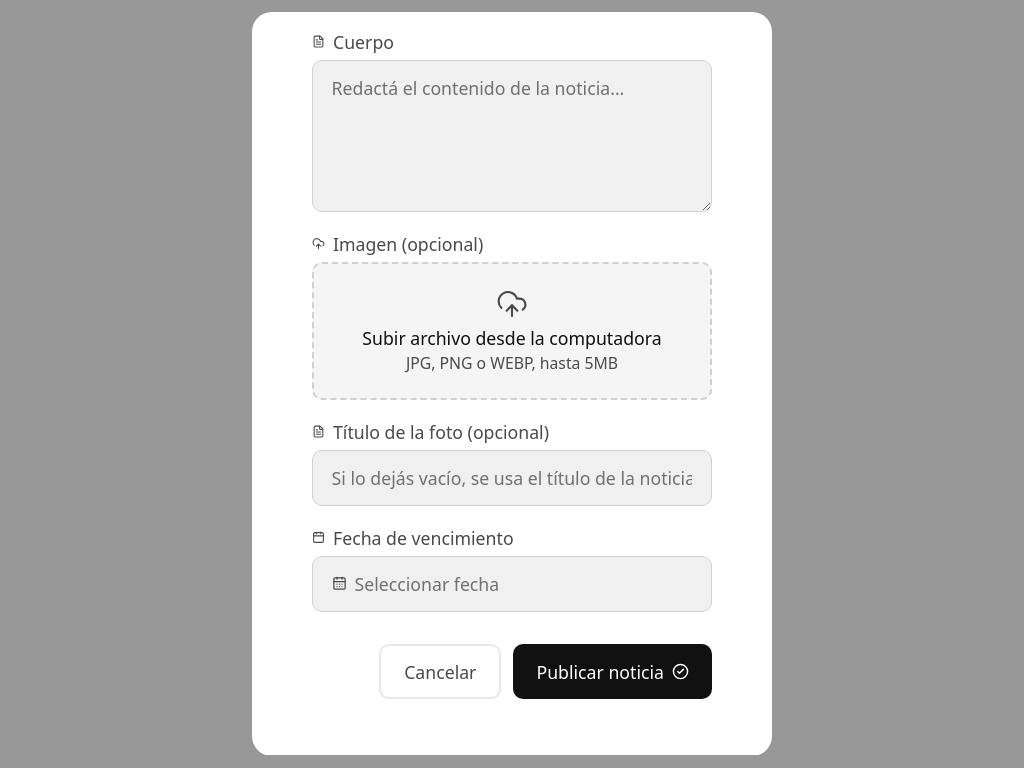
Test: CreateNoticiaForm › no envía si el título está vacío
(page scrolled)
Click the button "Publicar noticia".
click(613, 672)  # box [514,644,712,699]
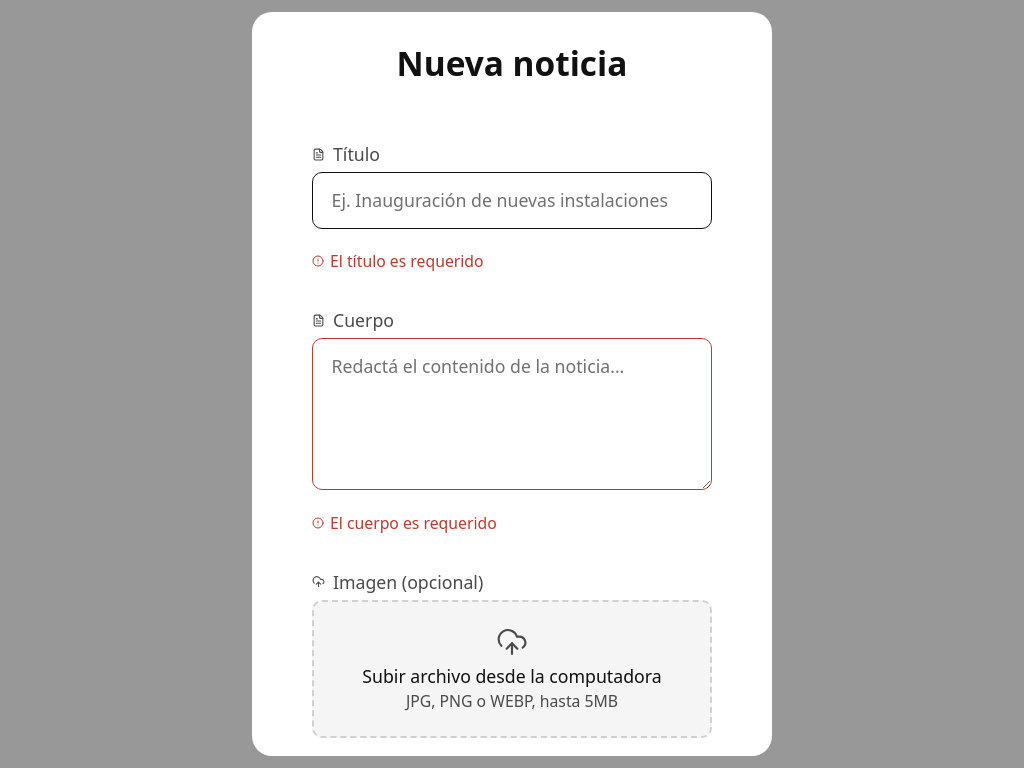
Now the text "El título es requerido" is shown, box [312,250,484,272]
